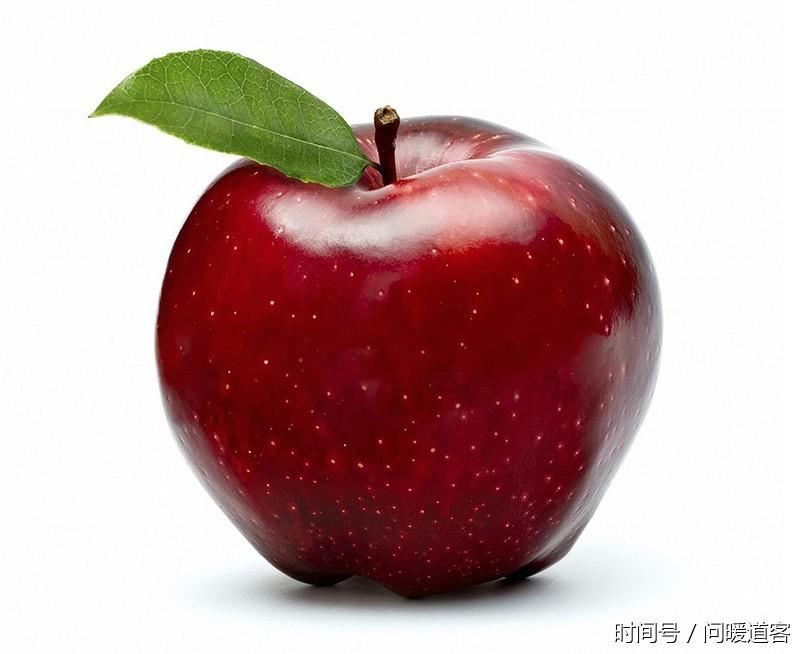fruit_apple: (80, 39, 719, 605)
